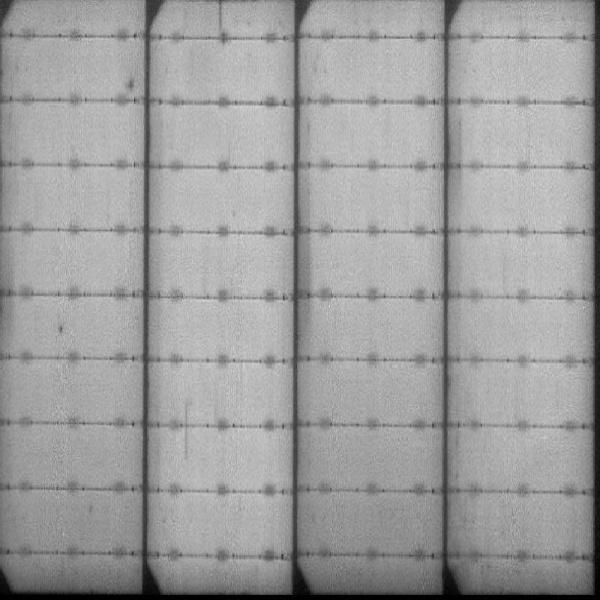scratch: (216, 1, 226, 39)
